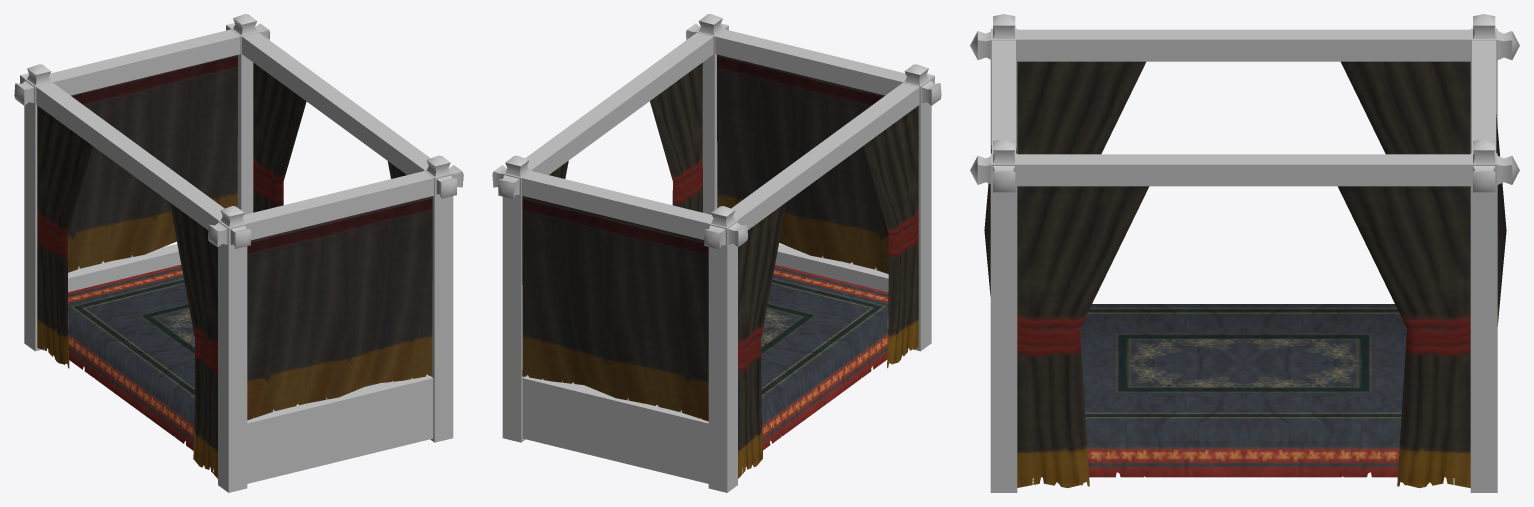
File: Bed_4C.fbx
3 renders of one model, left to right at view 1: azimuth 30°, elevation 25°; view 2: azimuth 150°, elevation 25°; view 3: azimuth 270°, elevation 25°, orthographic. The views are drawn at different scales.
Parts seen in each view (by area): view 1: Alpha, polySurface7935; view 2: Alpha, polySurface7935; view 3: Alpha, polySurface7935.
Boxes of the visible parts, bbox=[...] form: Alpha: bbox=[37, 55, 432, 478]; polySurface7935: bbox=[14, 14, 463, 492]; Alpha: bbox=[522, 54, 918, 478]; polySurface7935: bbox=[492, 14, 941, 492]; Alpha: bbox=[984, 61, 1506, 488]; polySurface7935: bbox=[970, 14, 1519, 492].
Bounding box in the file's own units: 2.73 × 2.87 × 4.1.
